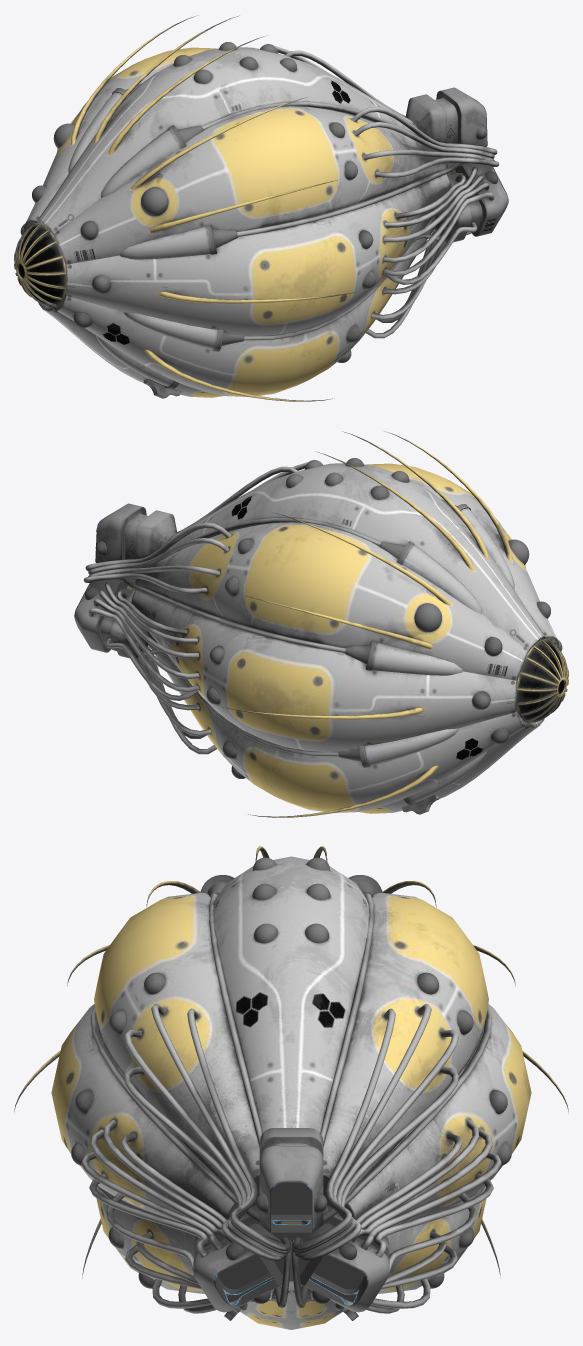
The model's file is sci-fi_fish.fbx.
3 views of the same model, one above another, from view 1: azimuth 30°, elevation 25°; view 2: azimuth 150°, elevation 25°; view 3: azimuth 270°, elevation 25° (orthographic). The views are drawn at different scales.
Parts seen in each view (by area): view 1: defaultMaterial, defaultMaterial.001; view 2: defaultMaterial, defaultMaterial.001; view 3: defaultMaterial, defaultMaterial.001.
Boxes of the visible parts, x1=… form: defaultMaterial: x1=20, y1=47, x2=497, y2=397; defaultMaterial.001: x1=14, y1=15, x2=508, y2=401; defaultMaterial: x1=85, y1=463, x2=562, y2=813; defaultMaterial.001: x1=74, y1=431, x2=568, y2=817; defaultMaterial: x1=51, y1=856, x2=531, y2=1329; defaultMaterial.001: x1=14, y1=846, x2=568, y2=1320.
Bounding box in the file's own units: 183 × 118 × 127.
